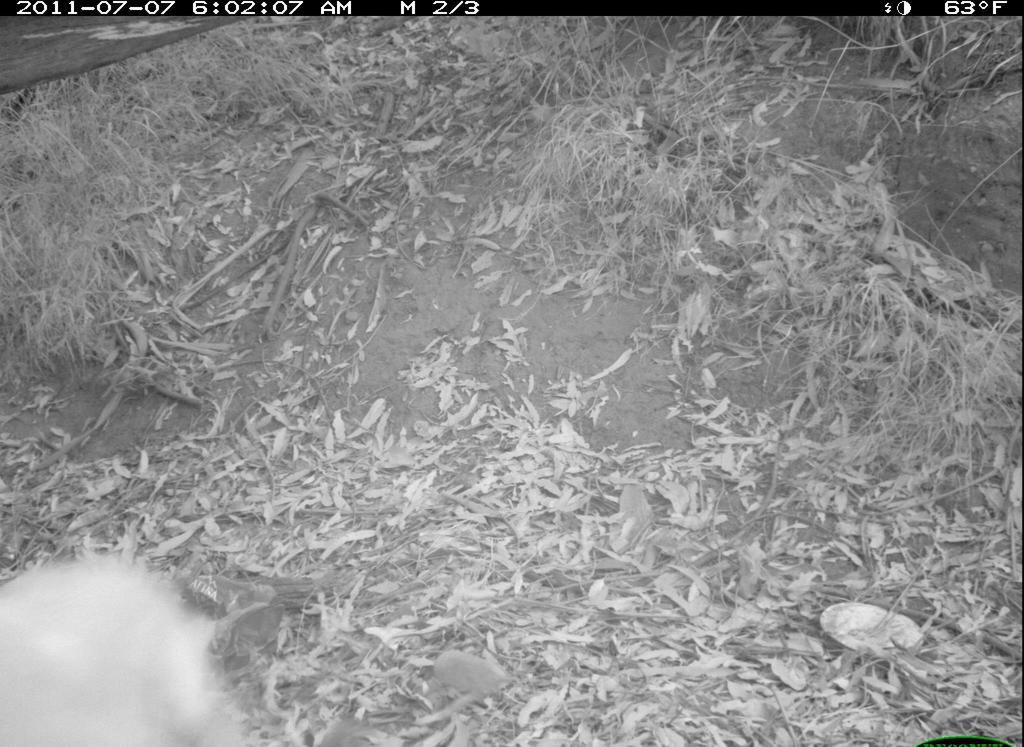dog: (1, 525, 251, 744)
